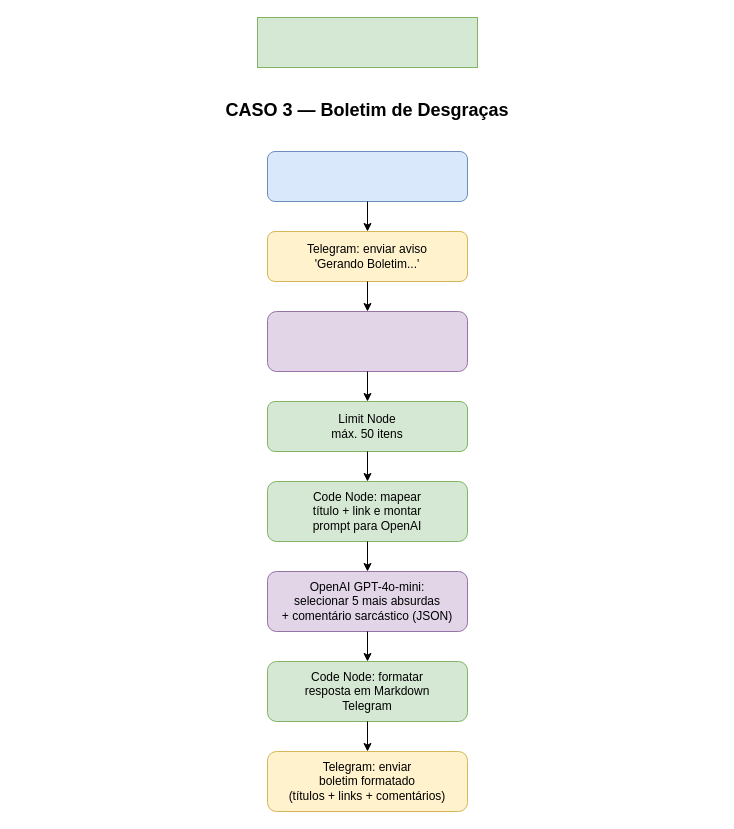
This 734x829 diagram has some shape labels left out. The shapes that lost their labels are listed below. From the top down, each one's centre as x and y in pixels, then its label:
At (367,42): "ℹ Status do usuário NÃO é alterado Fluxo síncrono, sem estado.".
At (367,176): "Usuário clica 'Boletim de Desgraças'".
At (367,341): "RSS Feed Reader G1 Planeta Bizarro".
